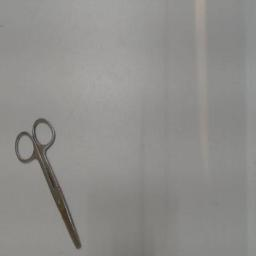Dressing Scissors: (7, 110, 87, 254)
